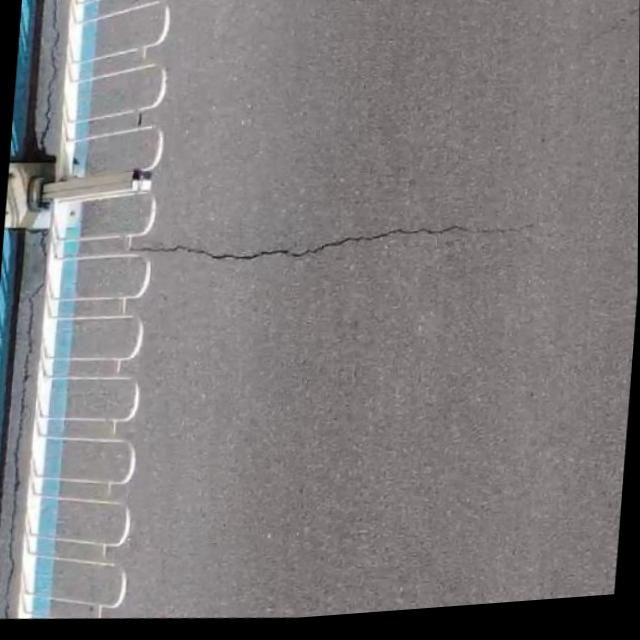Crack: (134, 196, 552, 297)
